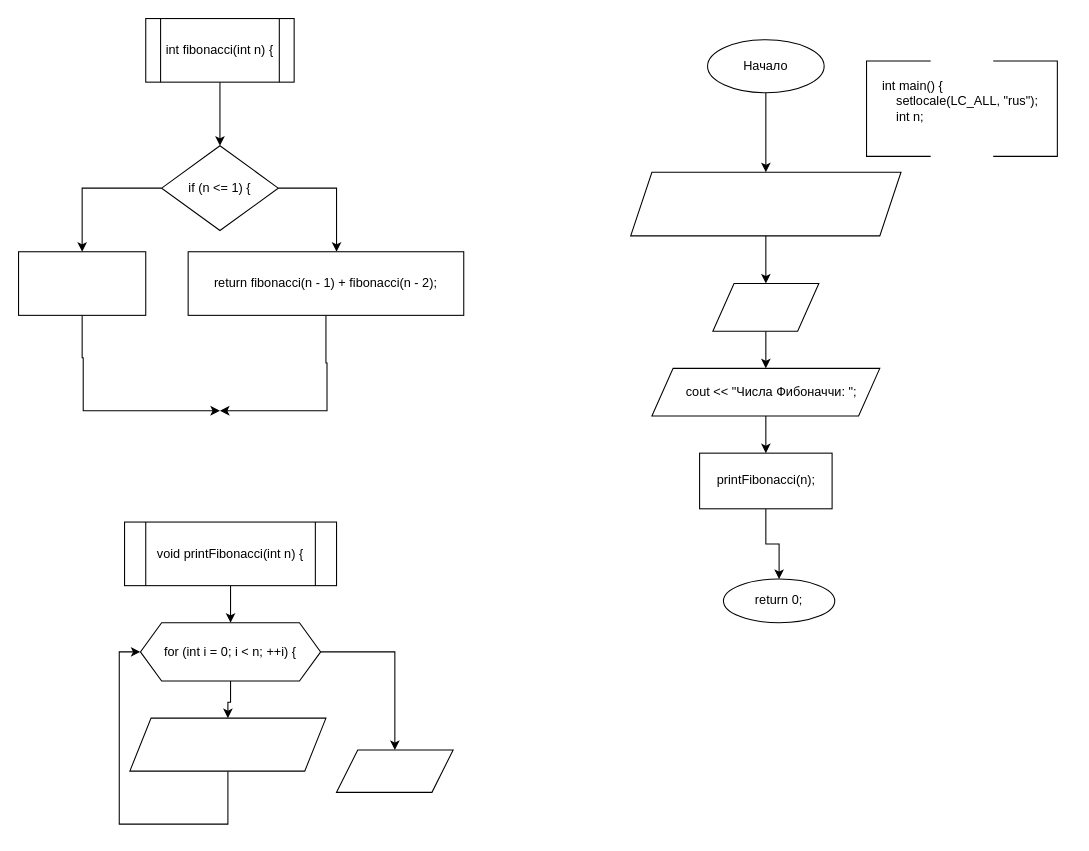
This 1089x851 diagram has some shape labels left out. The centre of each missing label's shape, as x and y in pixels:
cin >> n;: the point at 765,306
cout << "Введите количество чисел Фибоначчи для вывода: ";: the point at 765,203
cout << endl;: the point at 394,770
cout << fibonacci(i) << " ";: the point at 227,744
return n;: the point at 81,283
